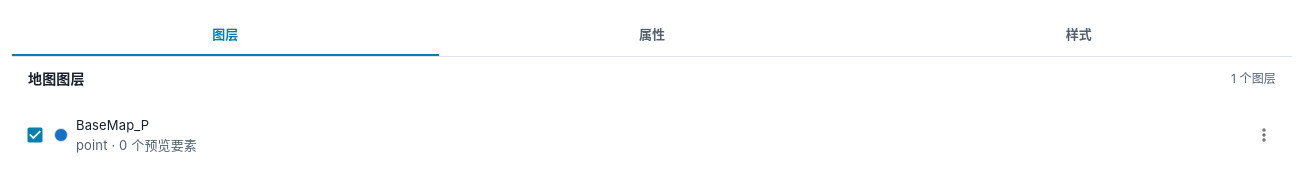
Test: InspectorPanel › 可以从图层 tab 手动切换到属性 tab 并显示空状态
This screenshot has width=1304, height=172.
expect the tab "图层" is shown: met, box [12, 12, 439, 56]
Step 1. Click the tab "属性" → (652, 34), box [439, 12, 865, 56]
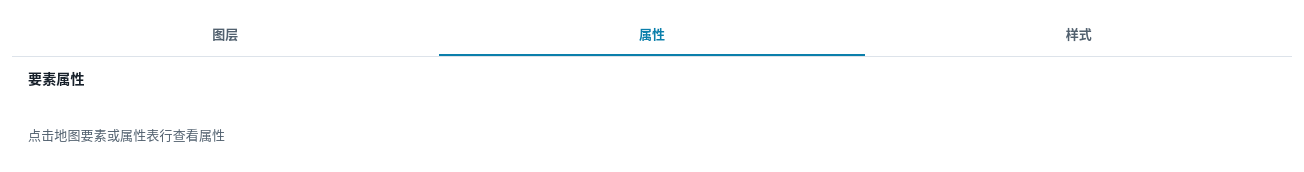
expect the heading "要素属性" is shown: met, box [28, 70, 85, 87]
expect the text "点击地图要素或属性表行查看属性" is shown: met, box [28, 127, 225, 143]
